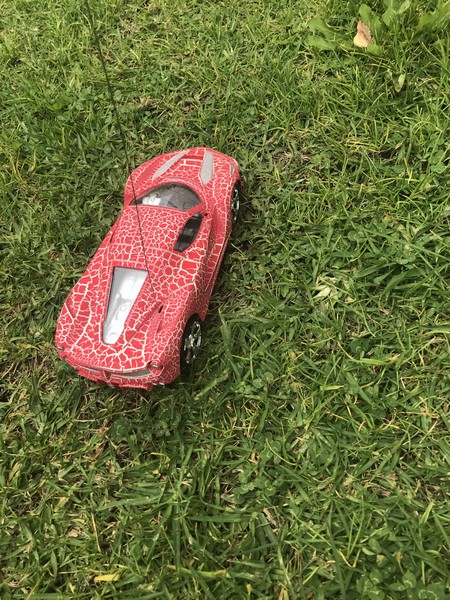RC: (53, 147, 243, 394)
